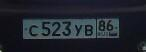license-plateSW: (21, 17, 120, 39)
